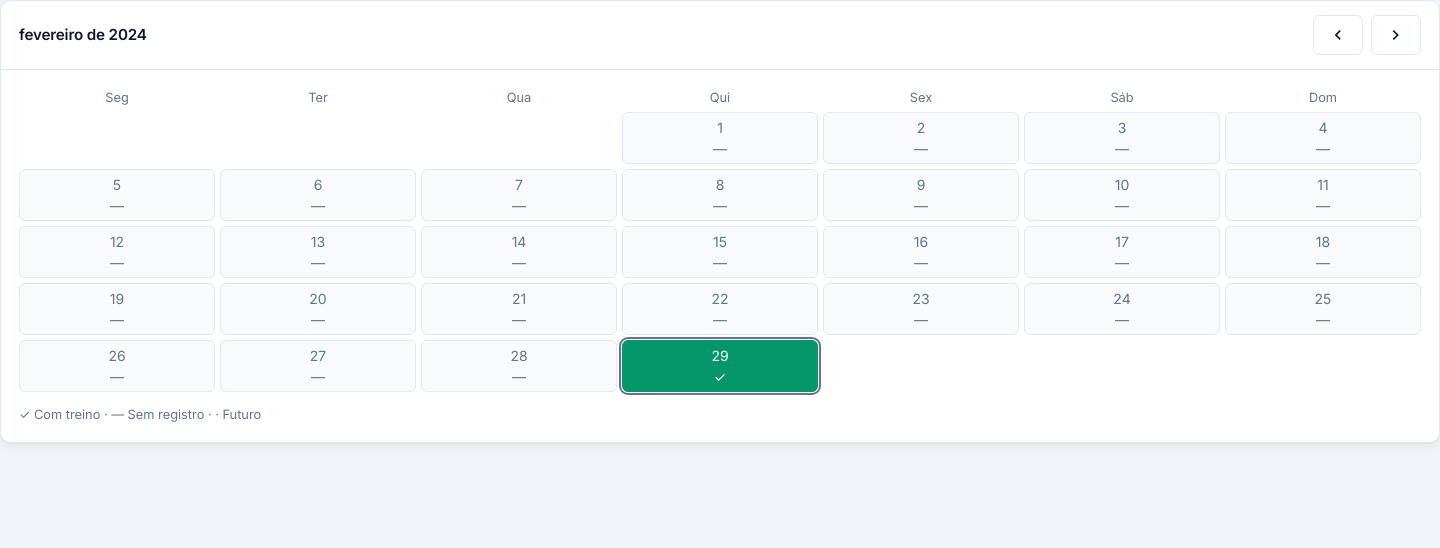
it: Calendário de treinos › navega entre meses, incluindo fevereiro bissexto, e exibe o histórico do dia
Click the button "29 ✓" at x=720, y=366, box [622,340,818,392]
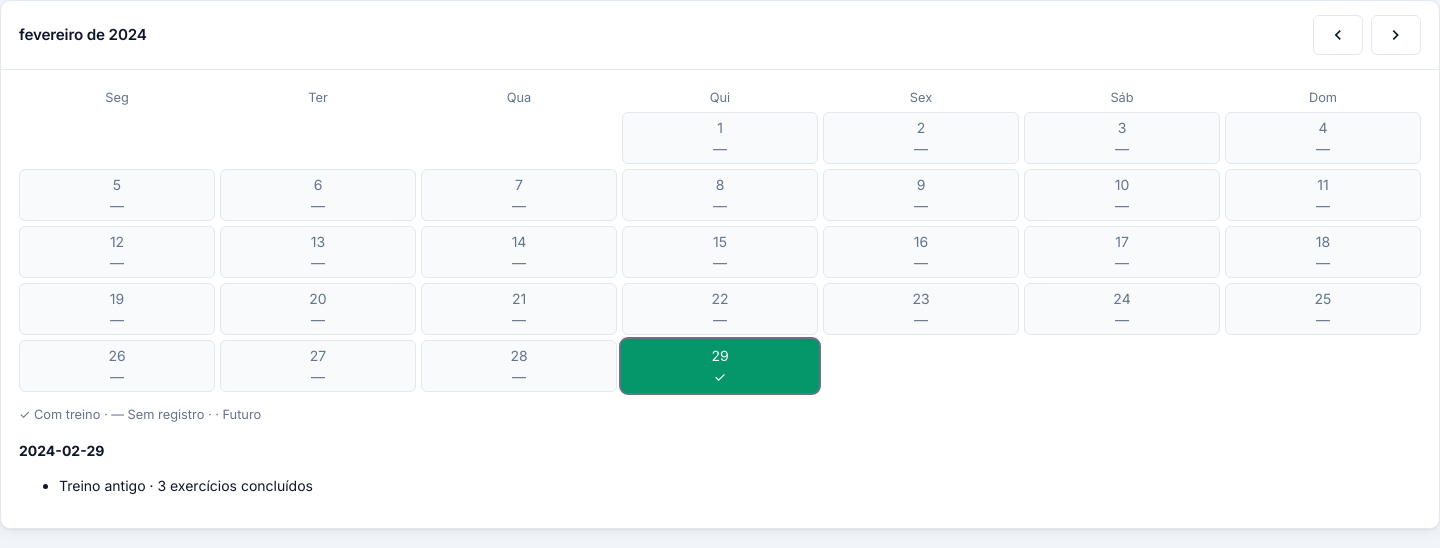
Expected: the text "Treino antigo" is shown, [59,477,150,494]
Click the button named "Próximo mês" at x=1396, y=35, box [1371,15,1421,55]
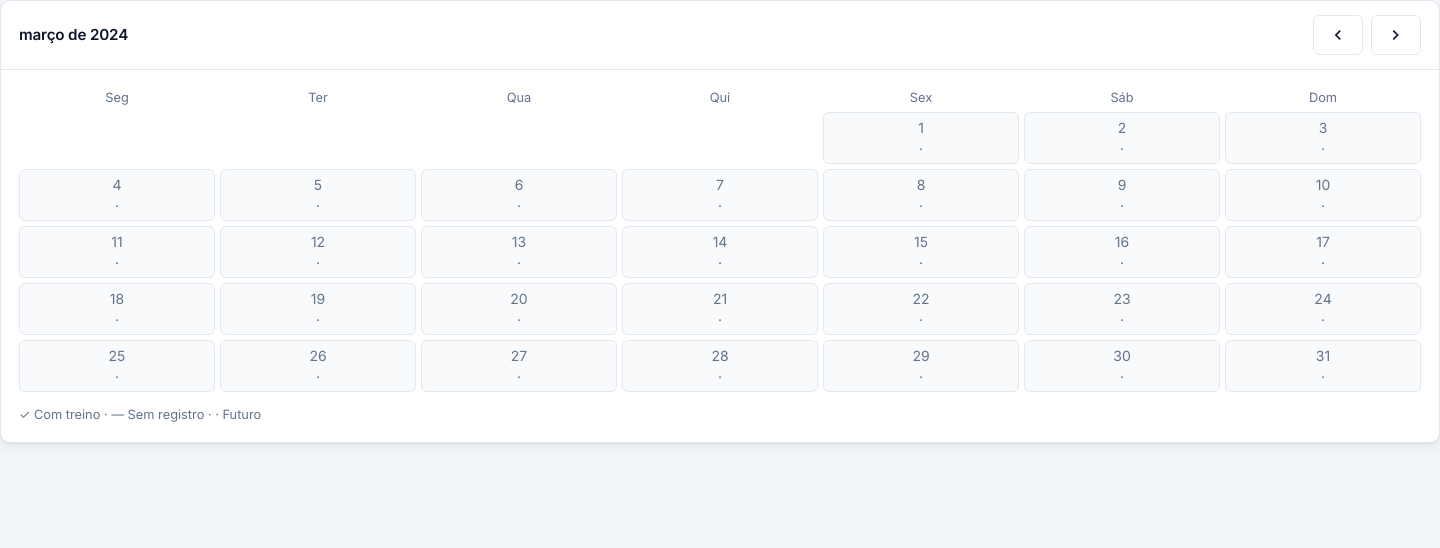
Expected: the text "Treino antigo" is gone
